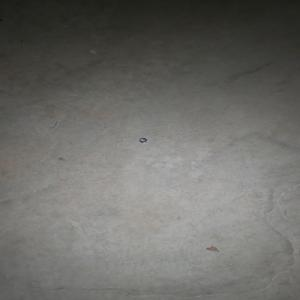Nut: (138, 138, 147, 144)
